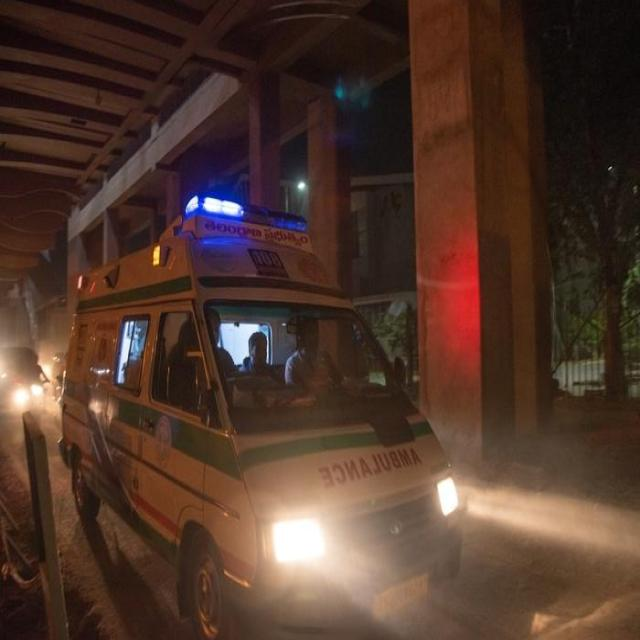emergency: (60, 194, 461, 638)
